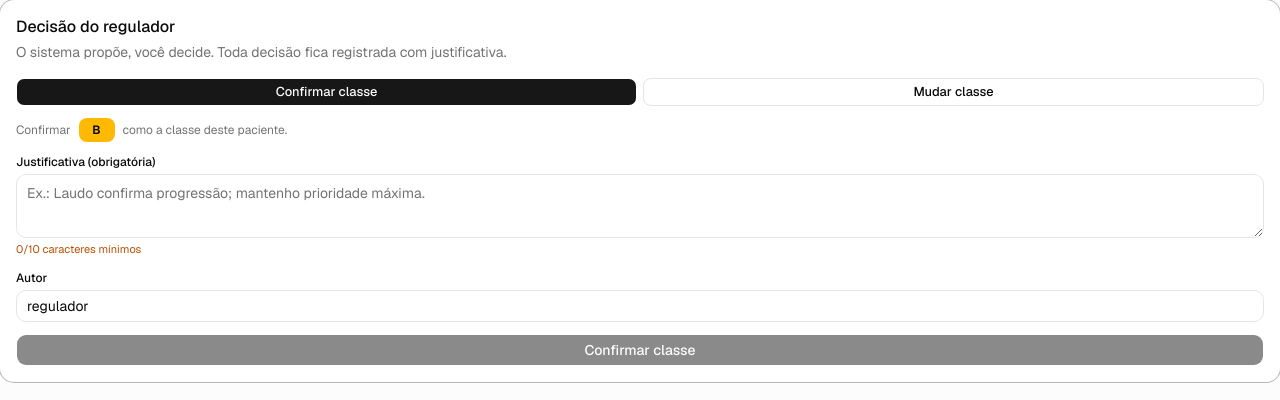
Test: PainelDecisao: justificativa obrigatória › espaços em volta não contam como caracteres
Step 1. Type "     abc     " into the text box labelled "Justificativa (obrigatória) 0/10 caracteres mínimos" → (640, 206), box 16,174 -> 1264,238
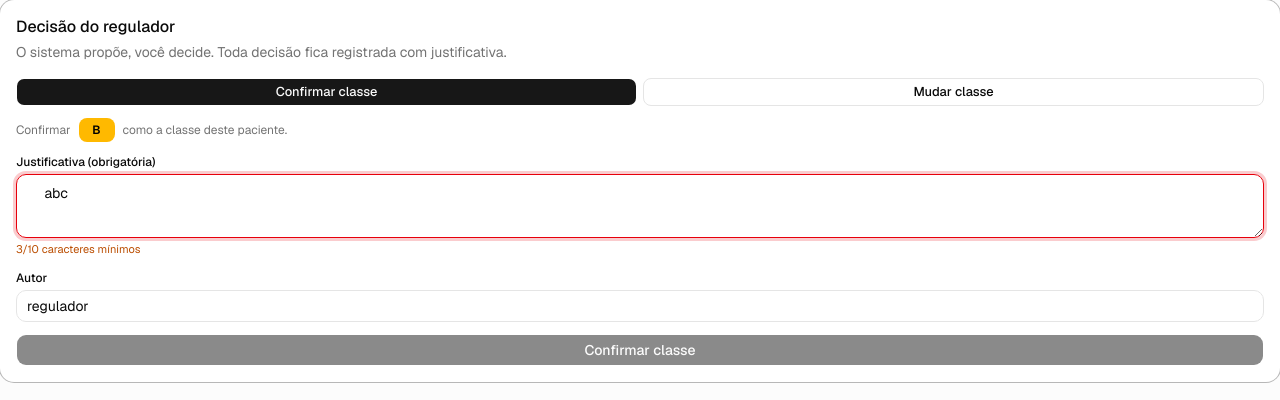
Check: the 2nd button "Confirmar classe" is disabled, box 16,334 -> 1264,366
Check: the text "3/10 caracteres mínimos" is shown, box 16,242 -> 140,256
